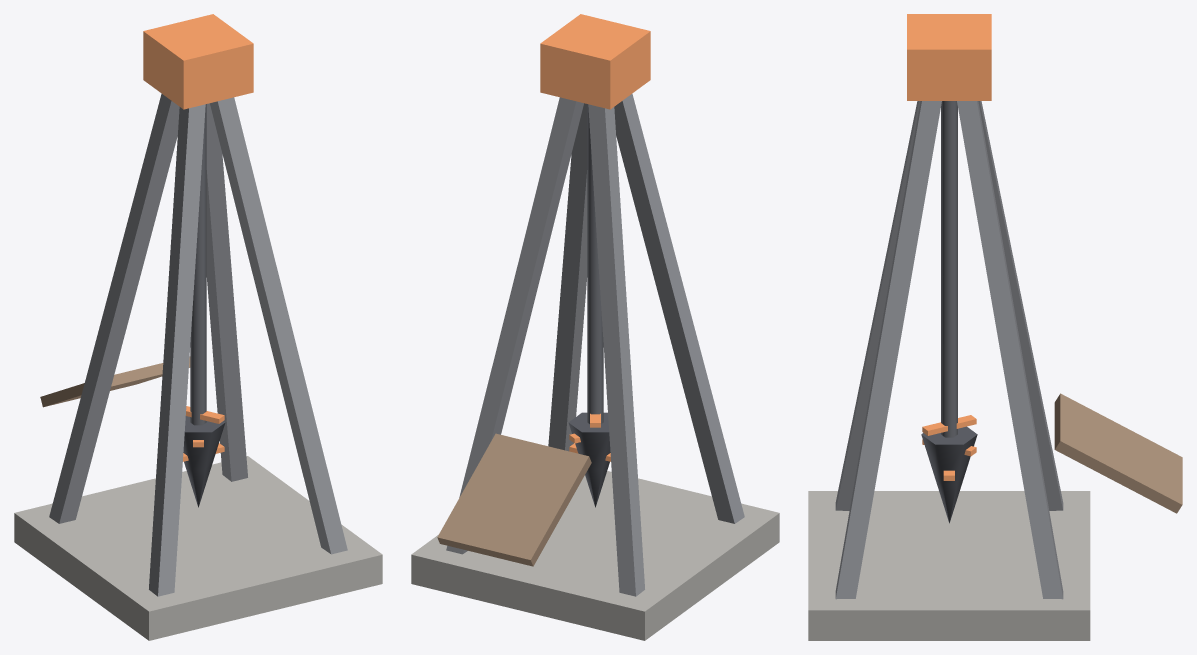
The model's file is build_drill_rig.glb.
3 views of the same model, side by side, from view 1: azimuth 30°, elevation 25°; view 2: azimuth 150°, elevation 25°; view 3: azimuth 270°, elevation 25° (orthographic). The views are drawn at different scales.
Parts seen in each view (by area): view 1: Baked, _MeshInstance3D_564; view 2: Baked, _MeshInstance3D_564; view 3: Baked, _MeshInstance3D_564.
Part boxes in pixels (left/top/right/bottom): Baked: left=14, top=14, right=382, bottom=640; _MeshInstance3D_564: left=183, top=416, right=225, bottom=507; Baked: left=411, top=14, right=779, bottom=640; _MeshInstance3D_564: left=568, top=412, right=610, bottom=507; Baked: left=808, top=14, right=1182, bottom=640; _MeshInstance3D_564: left=921, top=426, right=977, bottom=523.
Size of the model in its own units: 1 by 2.15 by 1.33.
